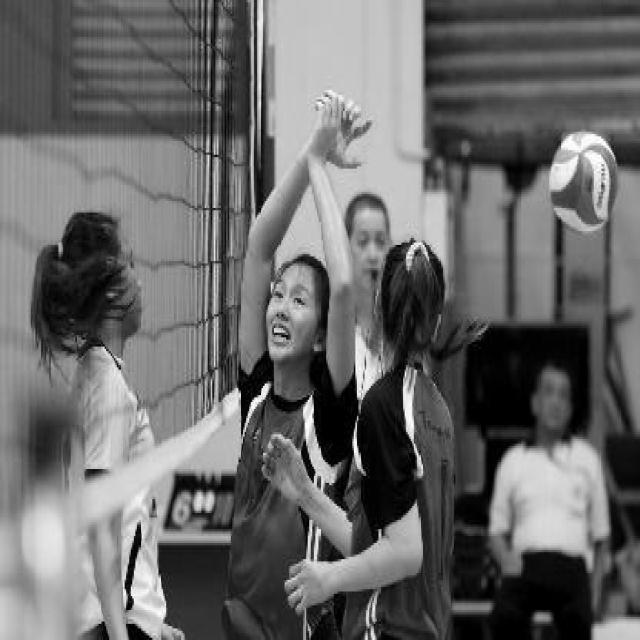volleyball: (550, 130, 618, 234)
